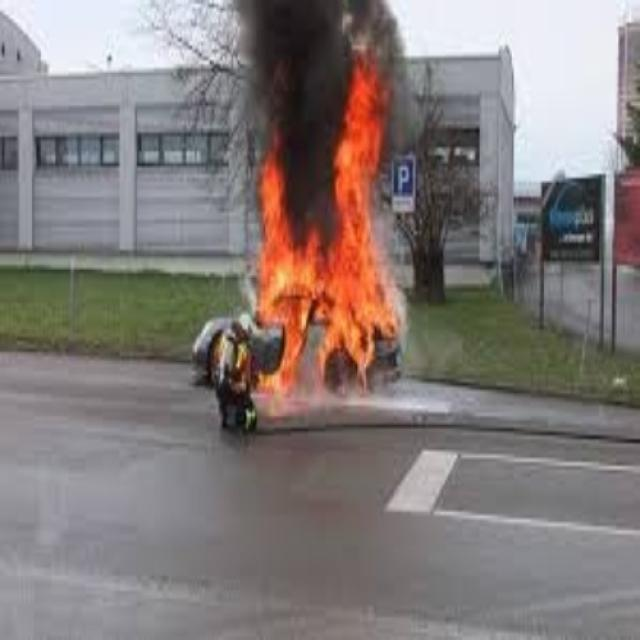Fire: (235, 46, 406, 401)
Smoke: (231, 2, 418, 242)
